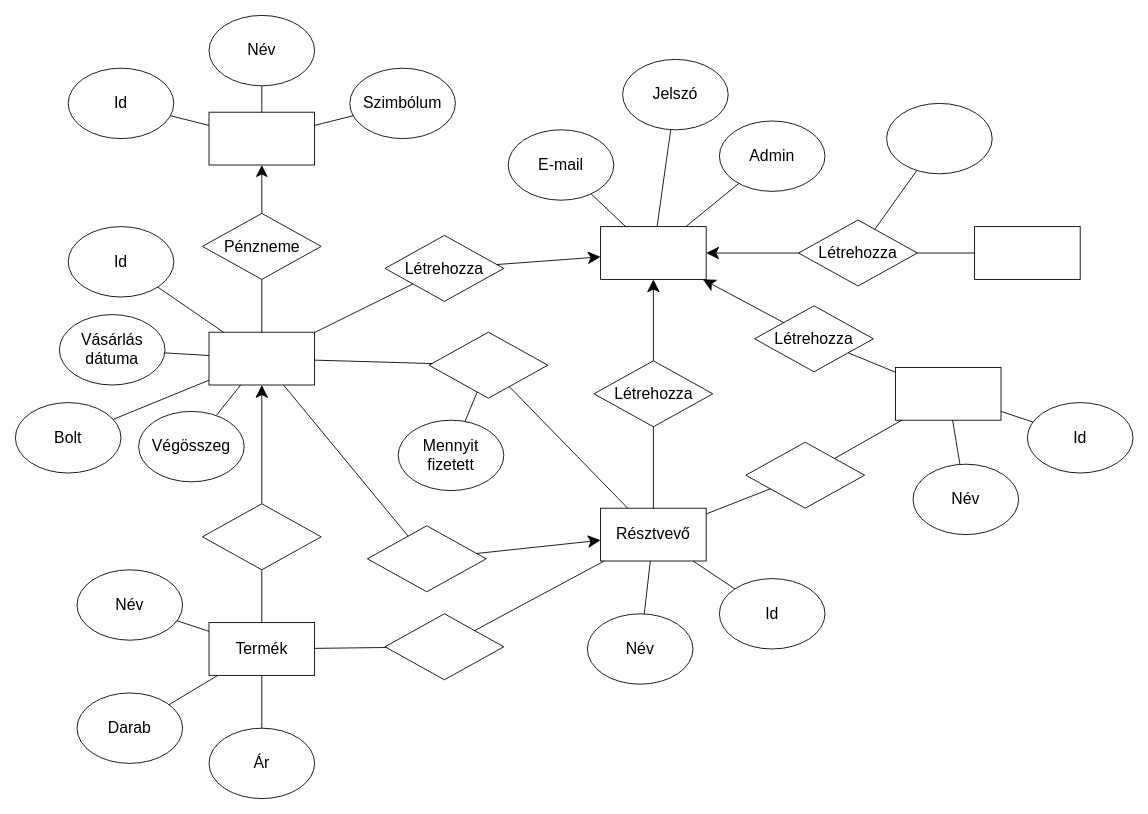
Some shapes in this 1148 by 814 pixel diagram are drawn without their labels. The shapes that lost their labels are listed below. From the top down, each one's box as (x1, y1, x2, y2) in pixels, then its label:
(208, 111, 315, 165): Pénznem
(886, 103, 992, 174): Van profilképe
(600, 226, 706, 279): Felhasználó
(974, 226, 1080, 279): Profilkép
(208, 331, 315, 385): Nyugta
(428, 331, 548, 398): Részt vesz
(895, 367, 1001, 420): Csoport
(745, 441, 865, 508): Része
(202, 503, 321, 570): Tartalmazza
(367, 525, 486, 592): Fizetett
(384, 613, 504, 680): Fizet érte
